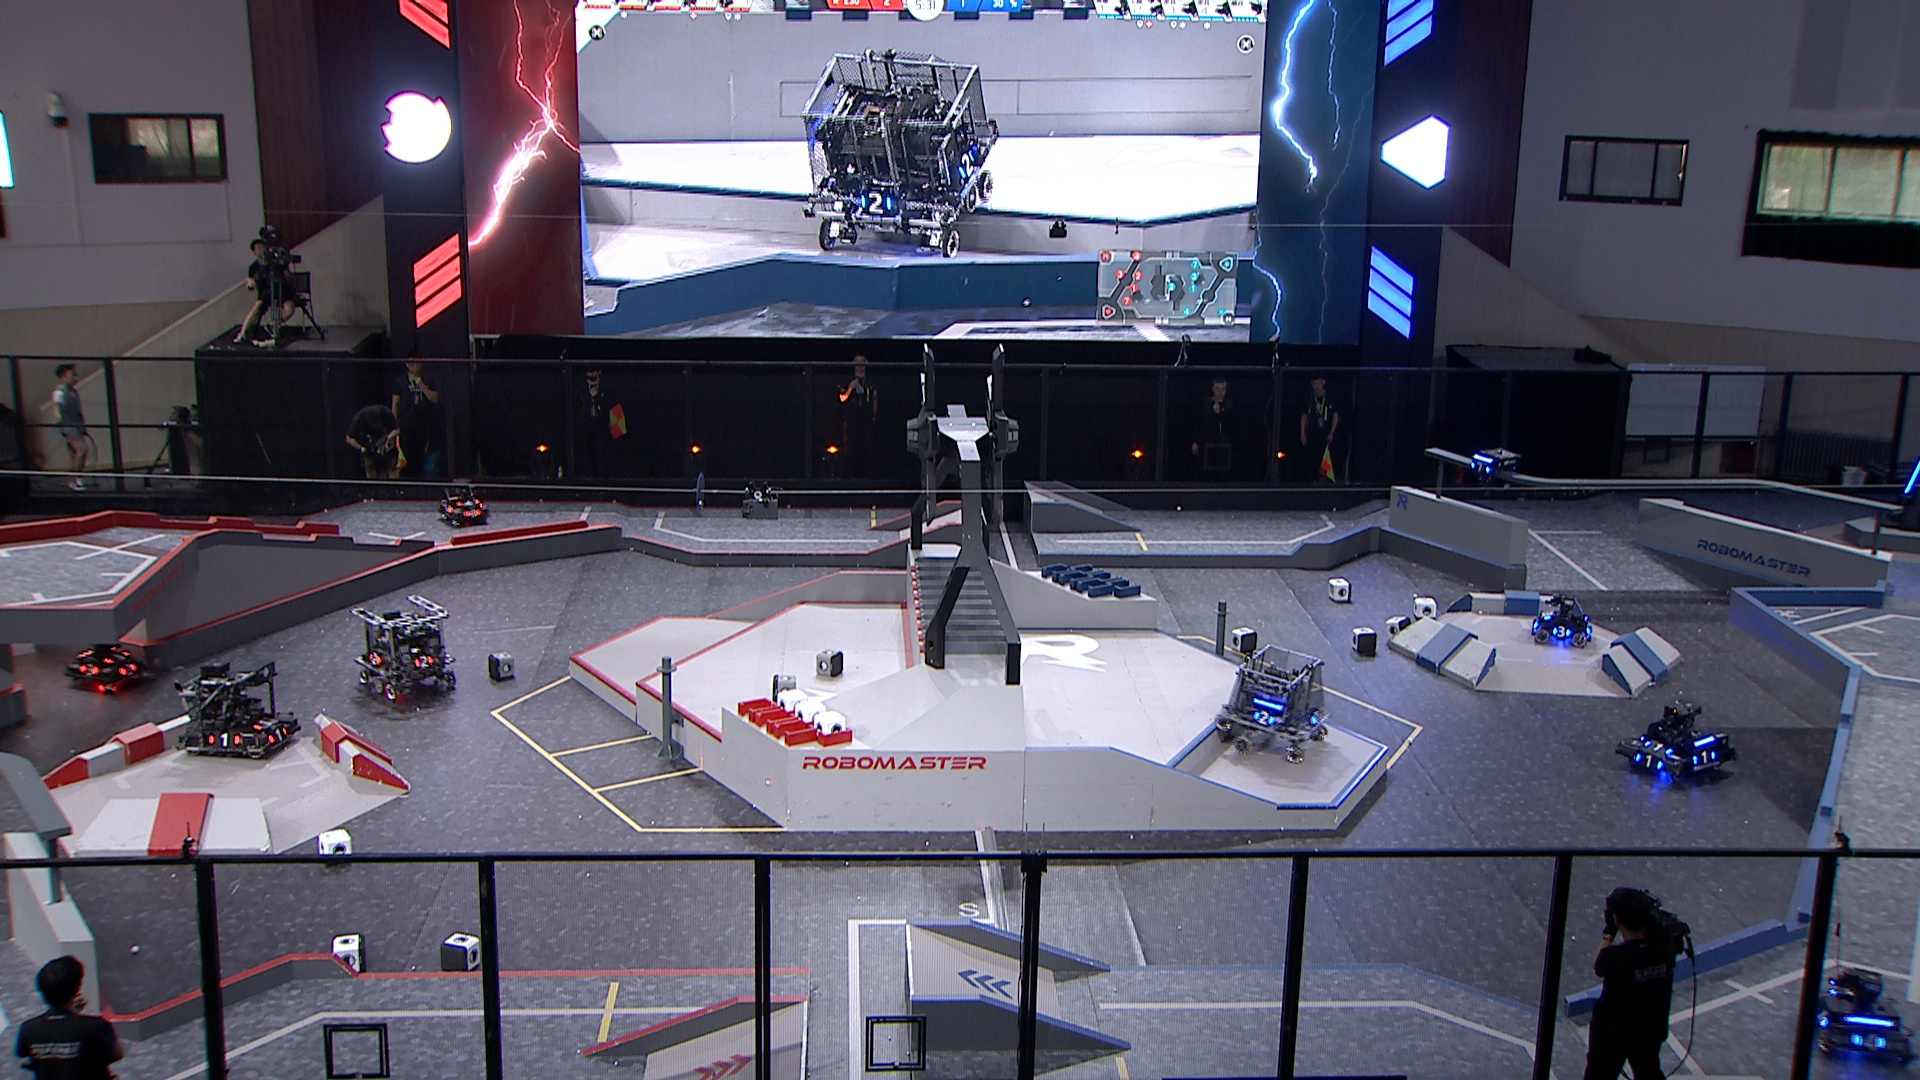armor: (1850, 1030, 1888, 1054), (1903, 462, 1920, 498), (1644, 737, 1675, 757), (1251, 708, 1276, 731), (206, 732, 243, 746), (1633, 754, 1665, 770), (102, 650, 133, 665), (1691, 750, 1720, 766), (76, 662, 102, 679), (268, 725, 290, 744), (1816, 1007, 1833, 1031), (1468, 462, 1493, 477), (253, 716, 277, 732), (414, 651, 434, 670), (1552, 624, 1575, 638), (367, 650, 384, 669), (462, 508, 483, 520), (1309, 711, 1324, 728), (120, 665, 138, 678), (1539, 611, 1556, 622), (443, 504, 456, 514)
base: (1880, 447, 1920, 535)
car: (171, 655, 305, 761), (1215, 645, 1329, 765), (349, 589, 456, 704), (1614, 700, 1738, 789), (1812, 963, 1913, 1062), (61, 629, 146, 692), (1534, 593, 1596, 650), (434, 477, 491, 529)
ignore: (800, 46, 1001, 258)
watcher: (1468, 448, 1518, 495)
